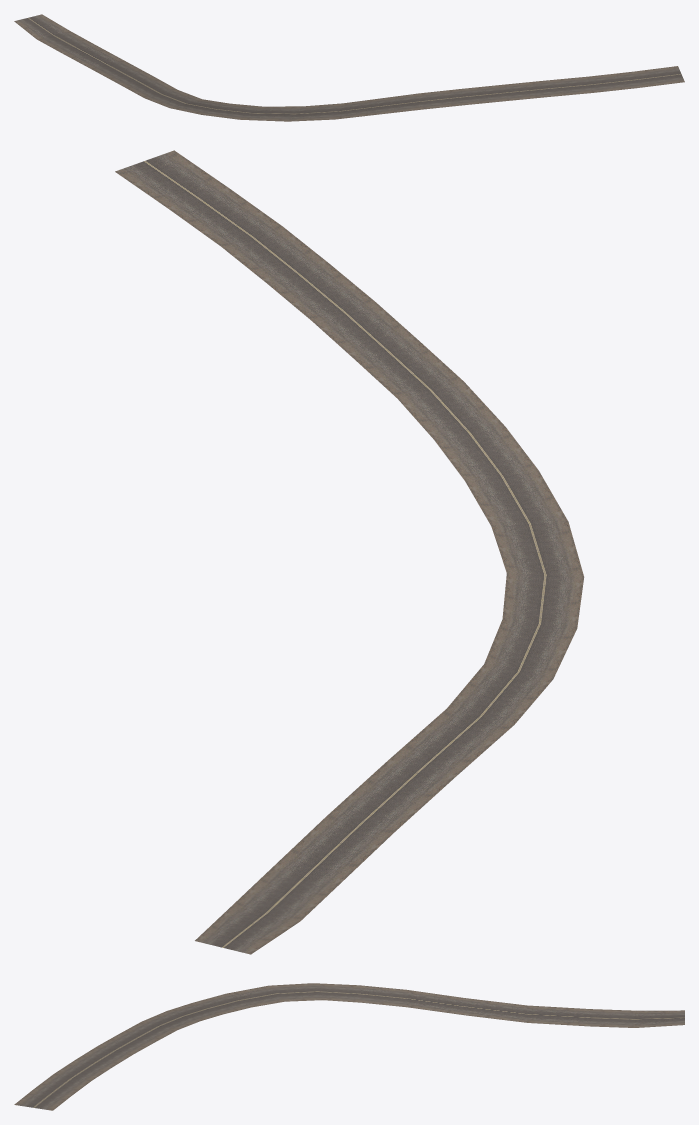
Rendered from tunelis2.obj.
3 renders of one model, top to bottom at view 1: azimuth 30°, elevation 25°; view 2: azimuth 150°, elevation 25°; view 3: azimuth 270°, elevation 25°, orthographic. The views are drawn at different scales.
Bounding box in the file's own units: 130 × 28.73 × 195.
Materials: 1 (1 with a texture image).
